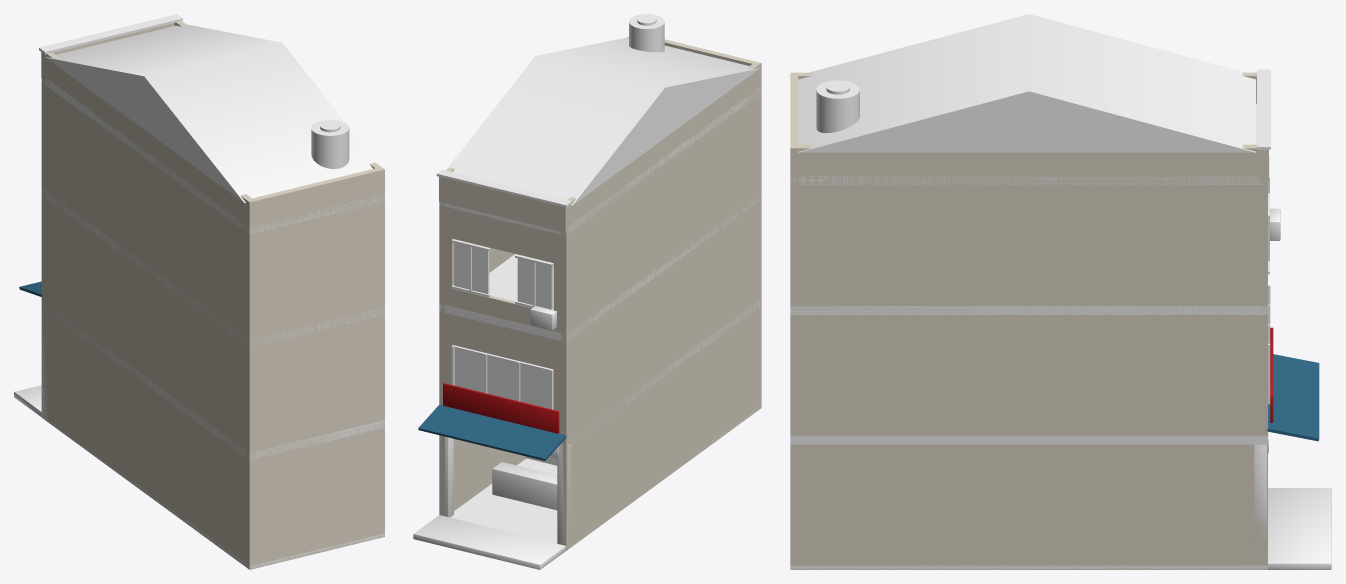
The model's file is Ruko_D.fbx.
3 renders of one model, left to right at view 1: azimuth 30°, elevation 25°; view 2: azimuth 150°, elevation 25°; view 3: azimuth 270°, elevation 25°, orthographic. The views are drawn at different scales.
Visible parts, largest first — view 1: Ruko_D_Mesh; view 2: Ruko_D_Mesh; view 3: Ruko_D_Mesh.
Boxes of the visible parts, <box> form: Ruko_D_Mesh: <box>14,14,384,569</box>; Ruko_D_Mesh: <box>413,14,761,569</box>; Ruko_D_Mesh: <box>790,14,1331,569</box>.
Size of the model in its own units: 4.6 by 13.3 by 13.6.
